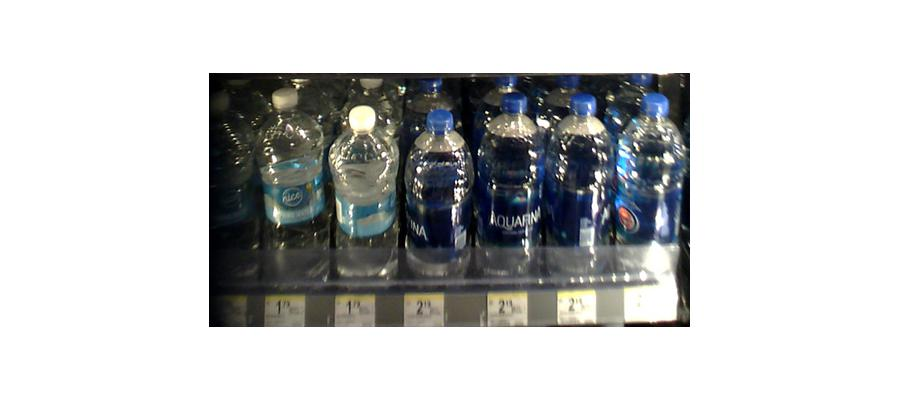bottle: (257, 84, 328, 287), (613, 90, 682, 286), (474, 90, 543, 282), (545, 95, 612, 284), (402, 111, 473, 288), (331, 105, 398, 287), (207, 95, 255, 292)
